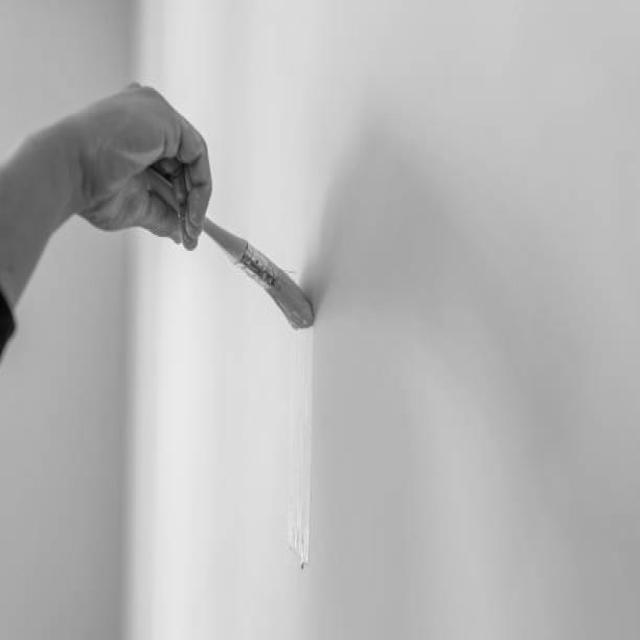paint drips: (274, 333, 328, 598)
